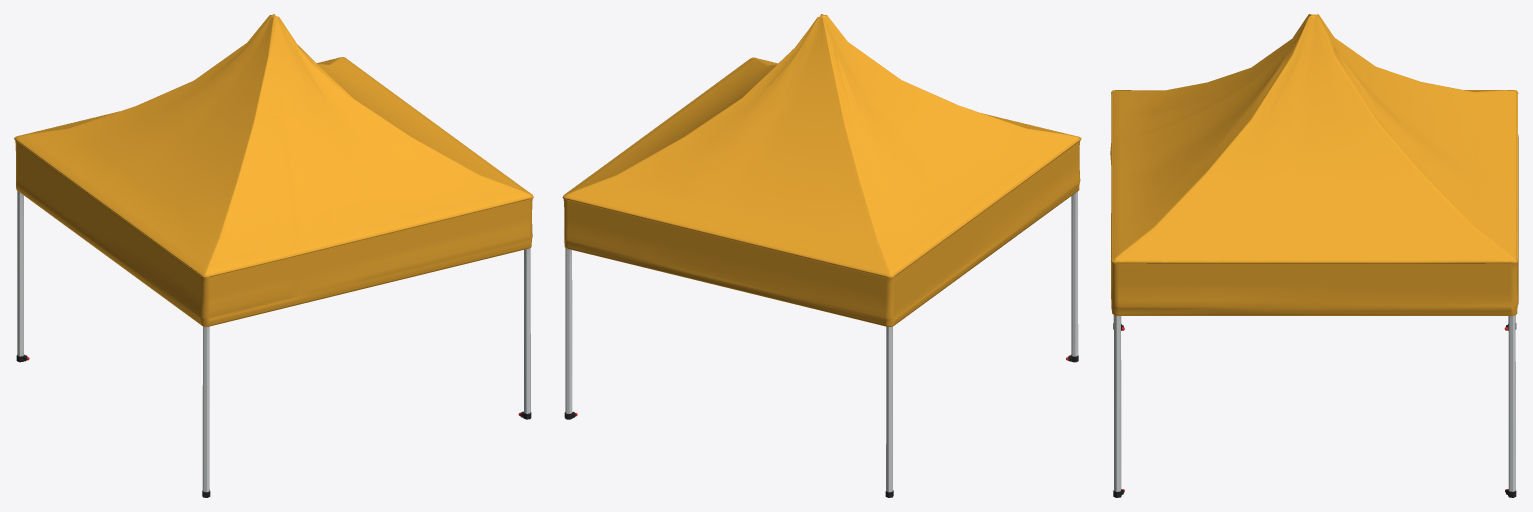
File: tent-8x8.glb
3 views of the same model, side by side, from view 1: azimuth 30°, elevation 25°; view 2: azimuth 150°, elevation 25°; view 3: azimuth 270°, elevation 25° (orthographic). The views are drawn at different scales.
Parts seen in each view (by area): view 1: fabric, leg; view 2: fabric, leg; view 3: fabric, leg.
Boxes of the visible parts, box(x1,y1,x2,y2) form: fabric: box(14, 14, 533, 326); leg: box(16, 191, 531, 497); fabric: box(562, 14, 1081, 327); leg: box(564, 191, 1078, 497); fabric: box(1110, 14, 1518, 315); leg: box(1113, 315, 1516, 497).
Size of the model in its own units: 2.44 by 2.62 by 2.44.
3 materials, 2 textured.
